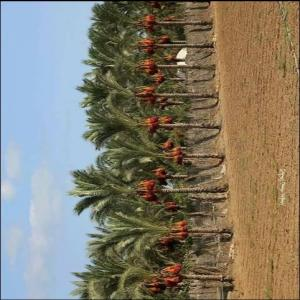palm tree: (67, 0, 232, 300)
